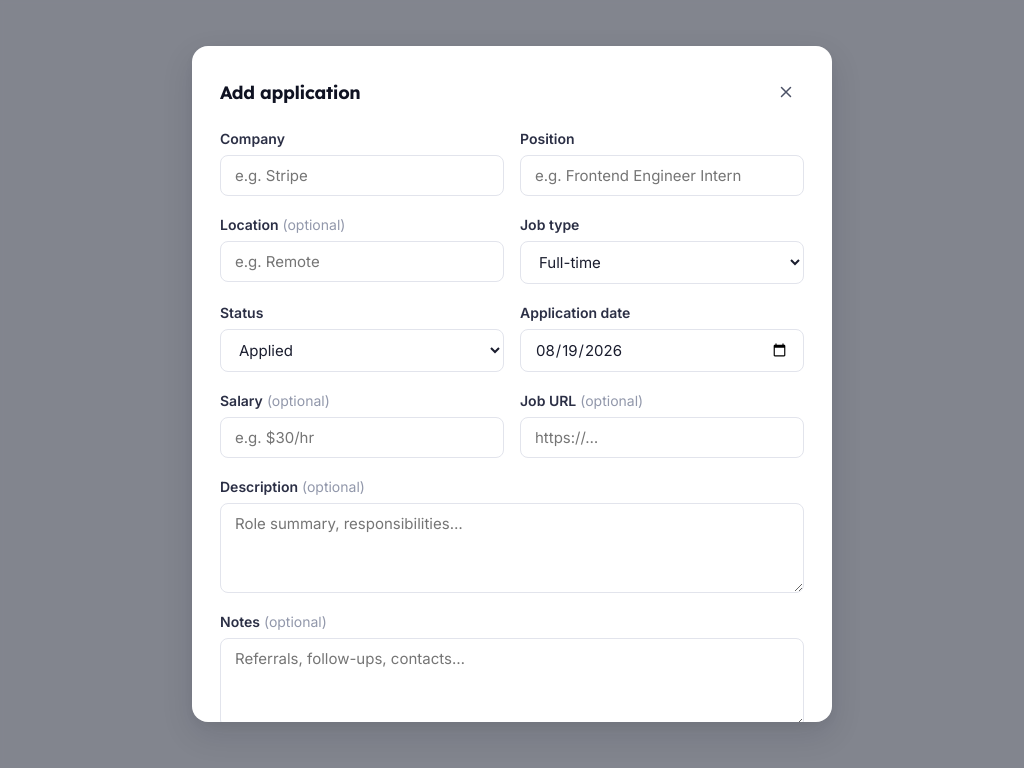
Test: ApplicationFormModal behavior › shows validation errors when required fields are empty
This screenshot has width=1024, height=768.
Clear the field labelled "Company" at x=362, y=176, box [220, 155, 504, 196]
(page scrolled)
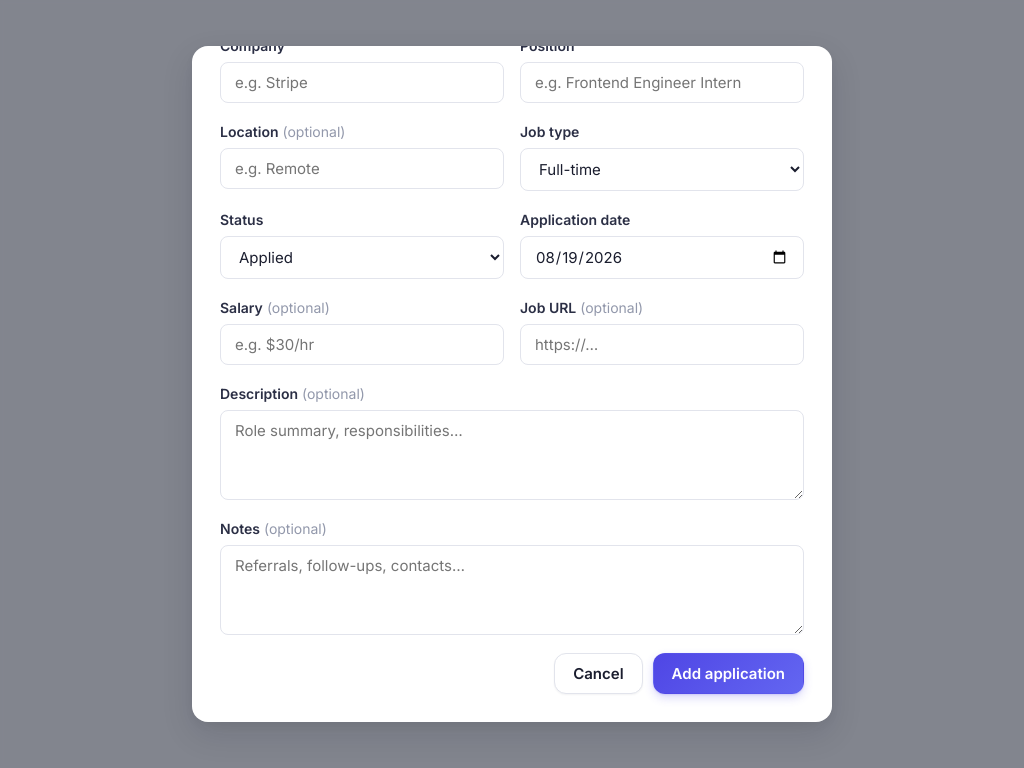
Click the button "Add application" at x=728, y=674, box [653, 653, 804, 694]
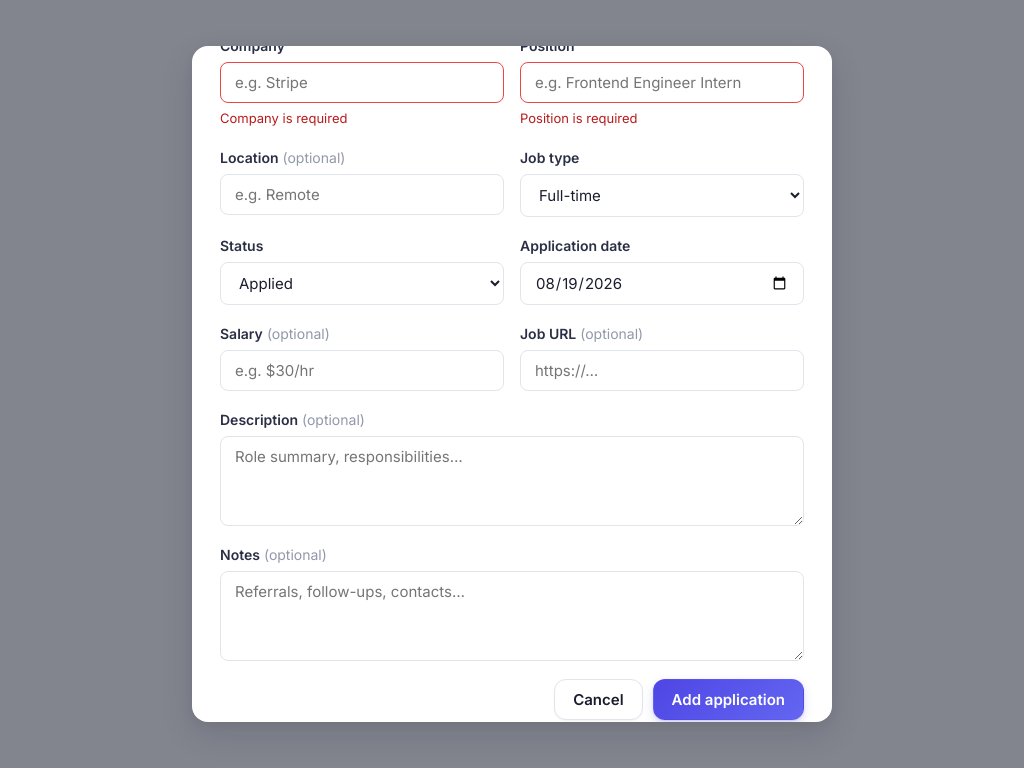
expect the text "Company is required" is shown: met, box [220, 110, 348, 126]
expect the text "Position is required" is shown: met, box [520, 110, 638, 126]
